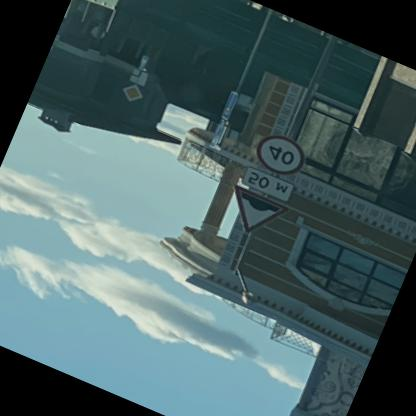speedlimit: (247, 128, 308, 182)
